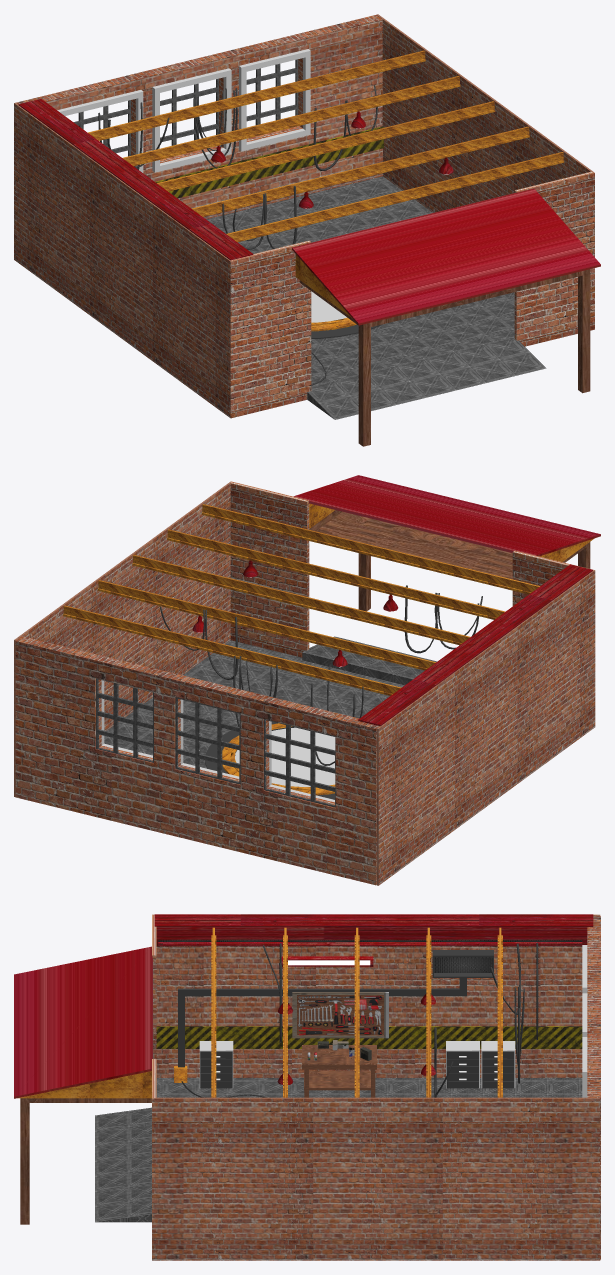
Rendered from garage_desert_lite.glb.
The picture shows the model from 3 angles, top to bottom: view 1: azimuth 30°, elevation 25°; view 2: azimuth 150°, elevation 25°; view 3: azimuth 270°, elevation 25°; orthographic projection. The views are drawn at different scales.
Visible parts, largest first — view 1: GarageDiorama; view 2: GarageDiorama; view 3: GarageDiorama.
Part boxes in pixels (box(x1,y1,x2,y2)): GarageDiorama: box(14, 14, 600, 446); GarageDiorama: box(14, 475, 600, 885); GarageDiorama: box(14, 914, 600, 1260).
Bounding box in the file's own units: 16.11 × 6.7 × 21.74.
Materials: 15 (12 with a texture image).
